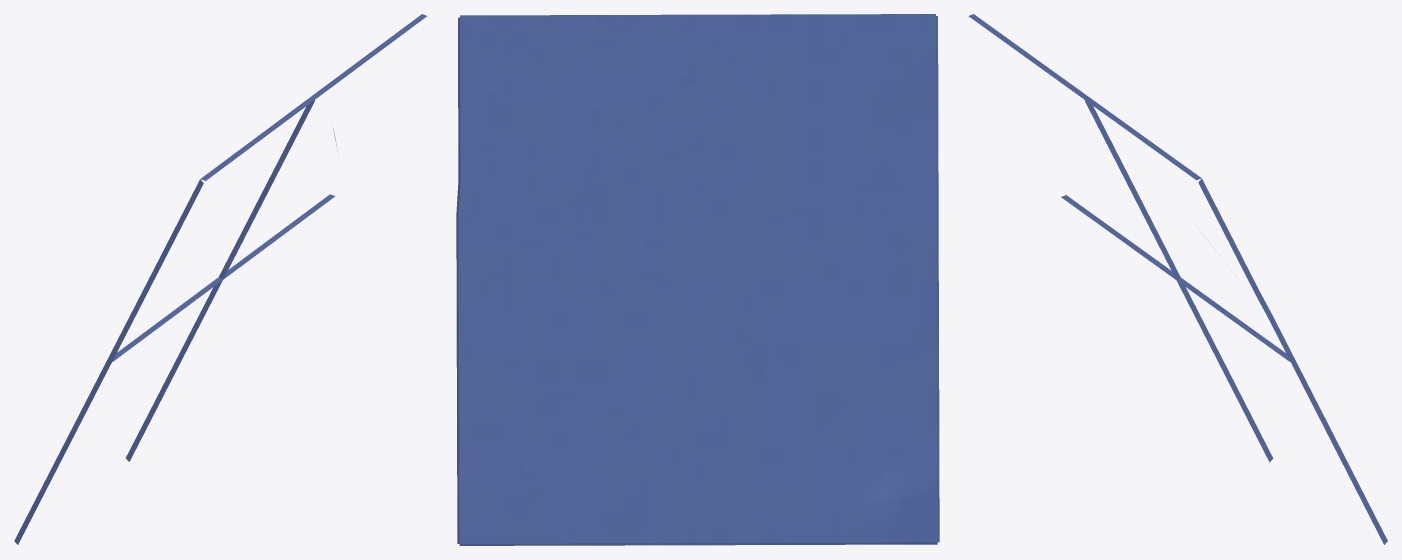
3 renders of one model, left to right at view 1: azimuth 30°, elevation 25°; view 2: azimuth 150°, elevation 25°; view 3: azimuth 270°, elevation 25°, orthographic. The views are drawn at different scales.
Bounding box in the file's own units: 39451 × 35725 × 33012.
Materials: 1 (1 with a texture image).
